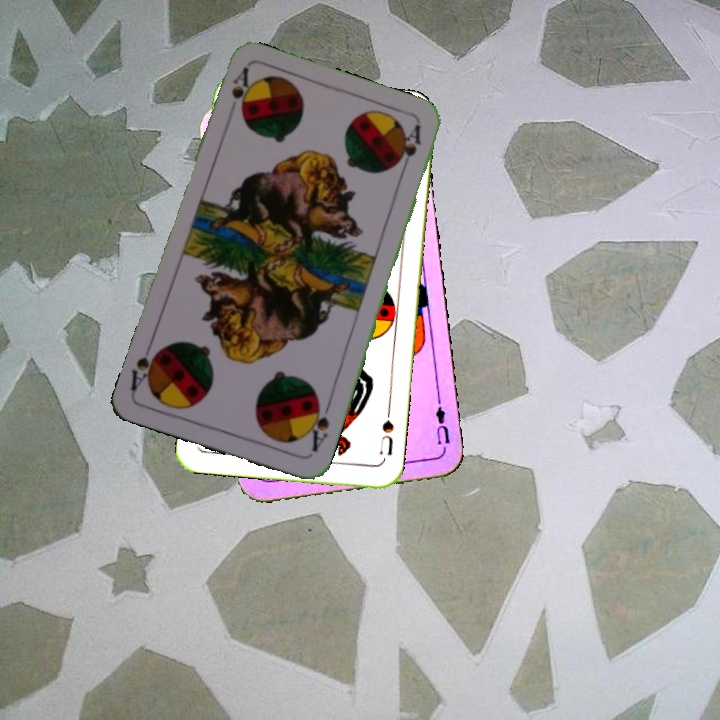EU: (426, 397, 452, 447)
SA: (302, 396, 333, 455), (227, 64, 255, 117)
SU: (375, 405, 397, 464)
